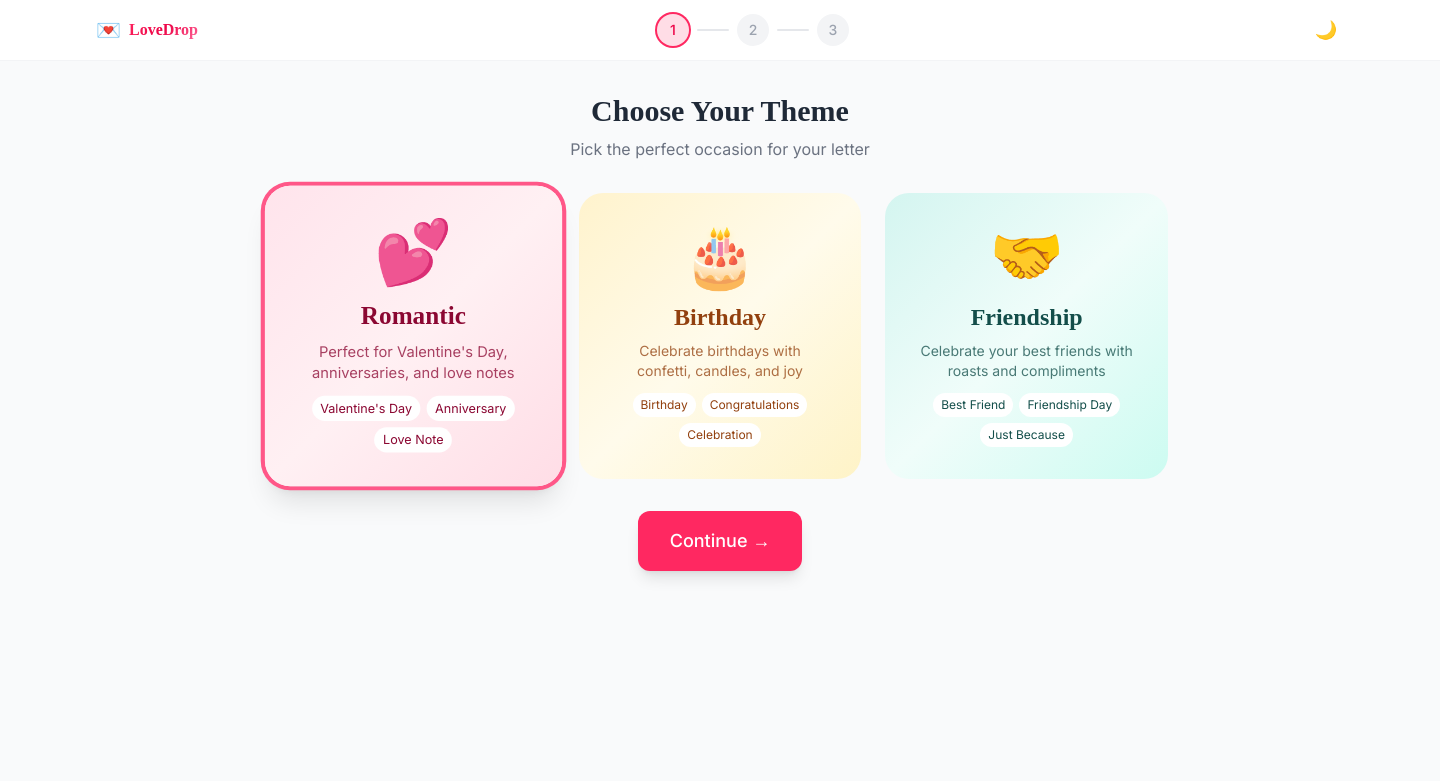
Create flow - Step 2: Letter editing › shows quick templates for the selected theme
What coordinates should you click on to do the following:
click the button "Continue →"
I would click on:
 (720, 541)
Its box is top-left (638, 511), bottom-right (802, 571).
(page scrolled)
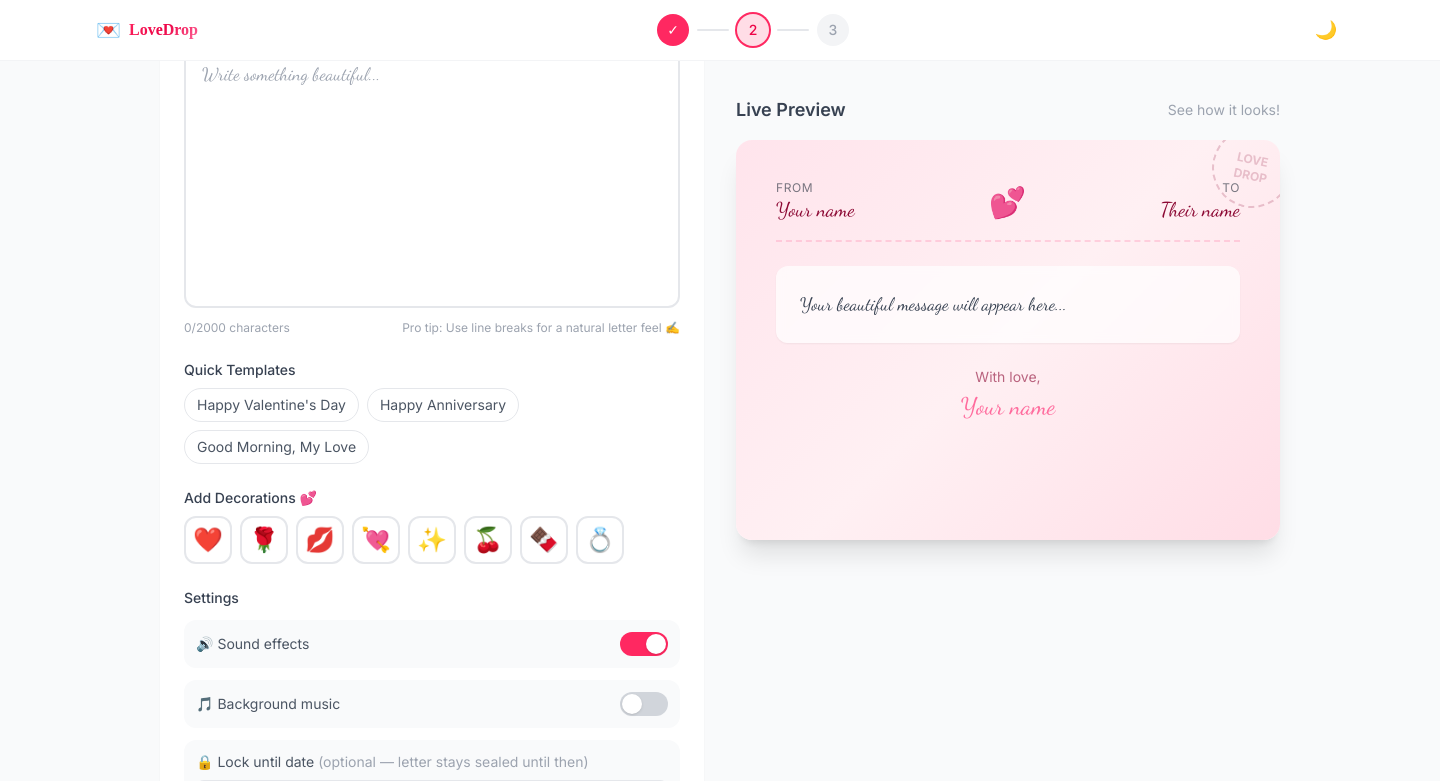
Result: the text "Quick Templates" is shown at top-left (184, 361), bottom-right (296, 378)
Result: the button "Happy Valentine's Day" is shown at top-left (184, 388), bottom-right (359, 422)
